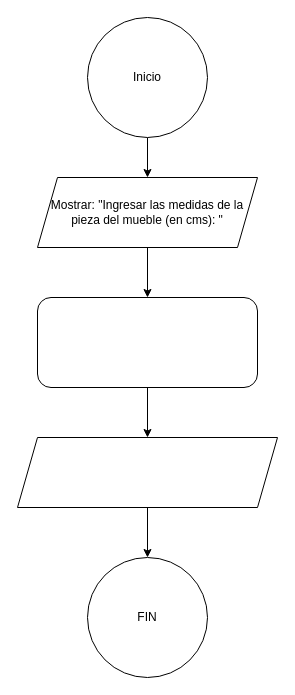
Image size: 295x695. Some labels were removed from this diagram. The centre of each missing label's shape, as x and y in pixels:
Convertir medida_en_pulgadas = medida_en_cms /2.52: (x=147, y=342)
Mostrar: "La medida en pulgadas de la pieza son: ", medida_en_pulgadas: (x=147, y=472)
